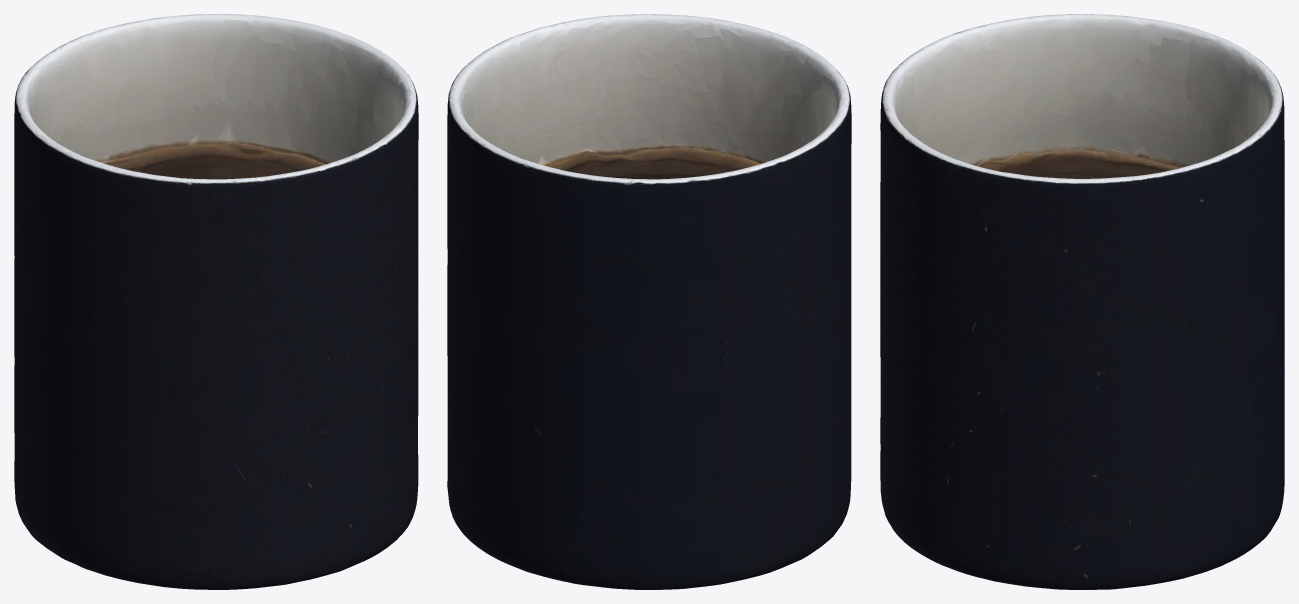
File: kitchen-mug-02.glb
3 renders of one model, left to right at view 1: azimuth 30°, elevation 25°; view 2: azimuth 150°, elevation 25°; view 3: azimuth 270°, elevation 25°, orthographic.
Visible parts, largest first — view 1: mesh_node; view 2: mesh_node; view 3: mesh_node.
Boxes of the visible parts, x1=… form: mesh_node: x1=14, y1=14, x2=418, y2=589; mesh_node: x1=447, y1=14, x2=851, y2=589; mesh_node: x1=880, y1=14, x2=1284, y2=589.
Bounding box in the file's own units: 1.69 × 1.9 × 1.69.
Materials: 1 (1 with a texture image).
